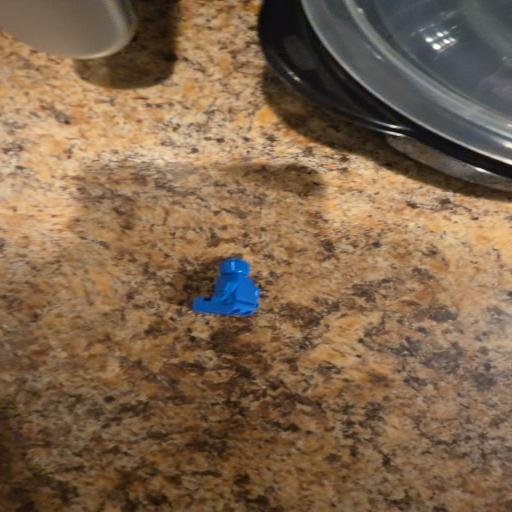Blue: (192, 258, 259, 315)
